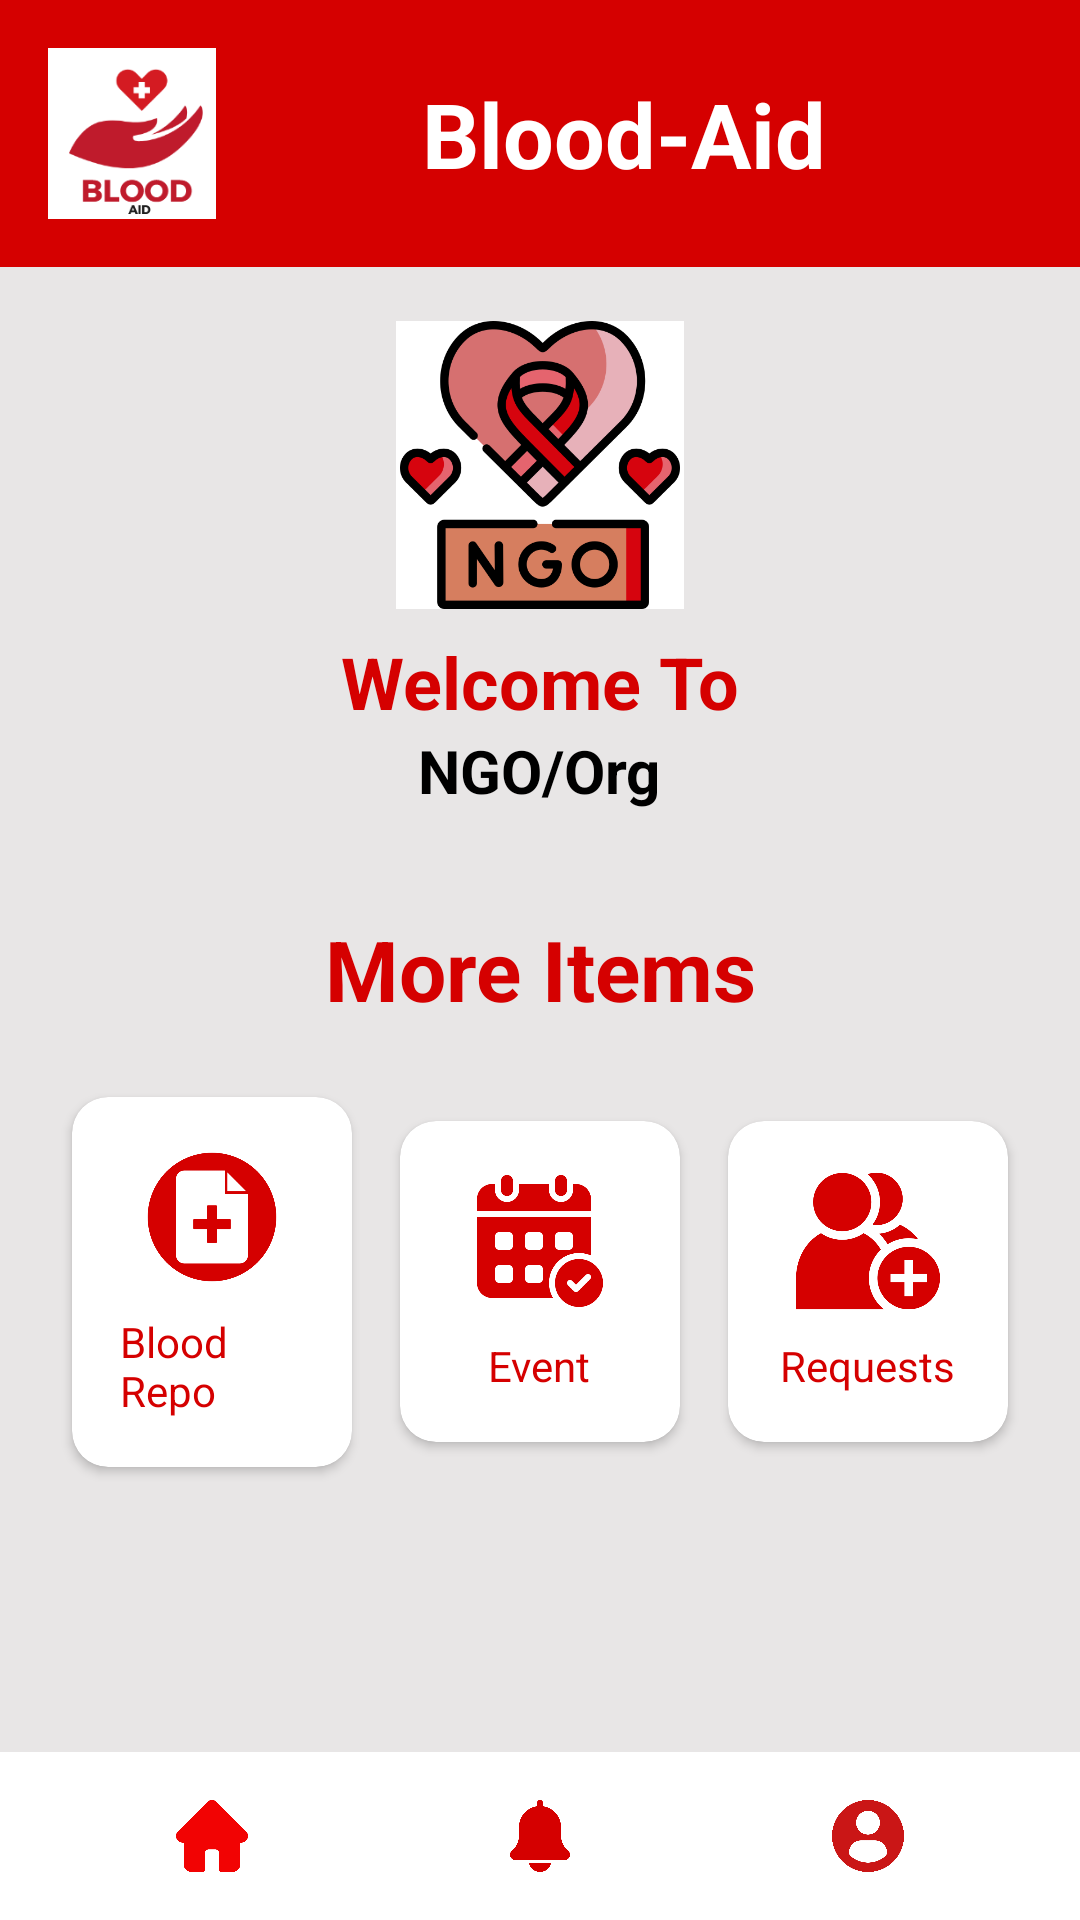

Where to tap for icons on this 1080*1920 app screen, as point (x, y):
bell: point (540, 1836)
homepage: point (212, 1836)
profile: point (868, 1836)
report: point (212, 1217)
